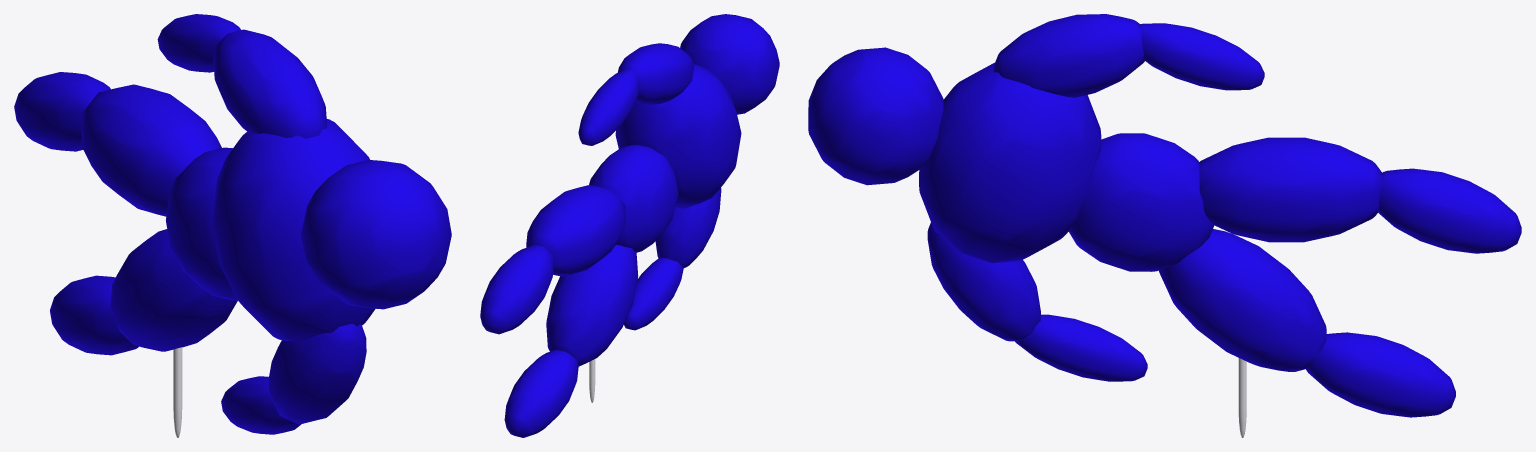
Rendered from balloon4.glb.
3 renders of one model, left to right at view 1: azimuth 30°, elevation 25°; view 2: azimuth 150°, elevation 25°; view 3: azimuth 270°, elevation 25°, orthographic. The views are drawn at different scales.
Visible parts, largest first — view 1: Mball.001; view 2: Mball.001; view 3: Mball.001.
Boxes of the visible parts, <box> form: Mball.001: <box>14,14,451,437</box>; Mball.001: <box>480,14,779,437</box>; Mball.001: <box>808,14,1521,437</box>.
Bounding box in the file's own units: 2.23 × 6.51 × 10.01.
